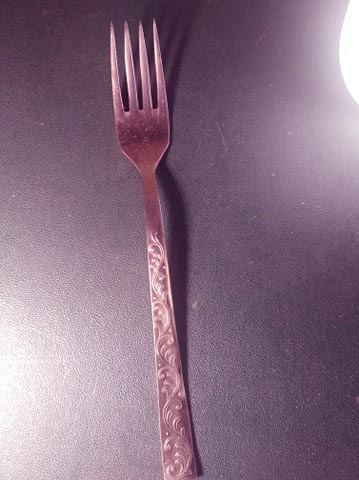Widelec: (106, 18, 179, 167)
